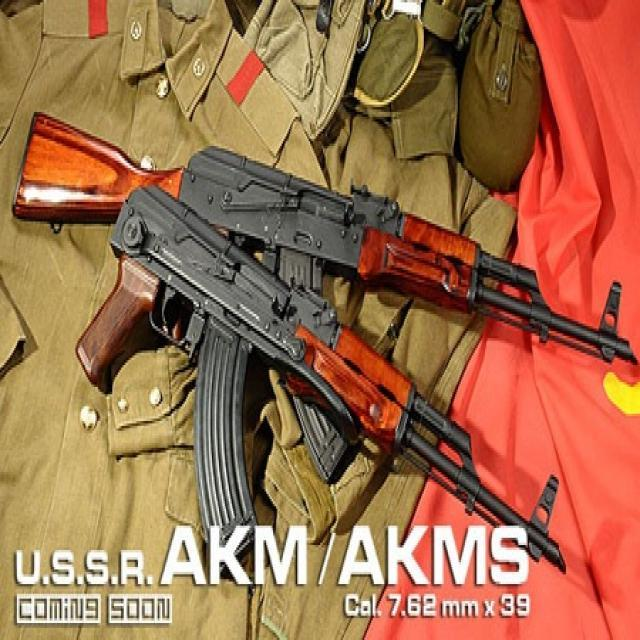gun-knife-thesis - v11 Yolov5 augmented: (12, 109, 628, 477), (77, 185, 567, 575)
